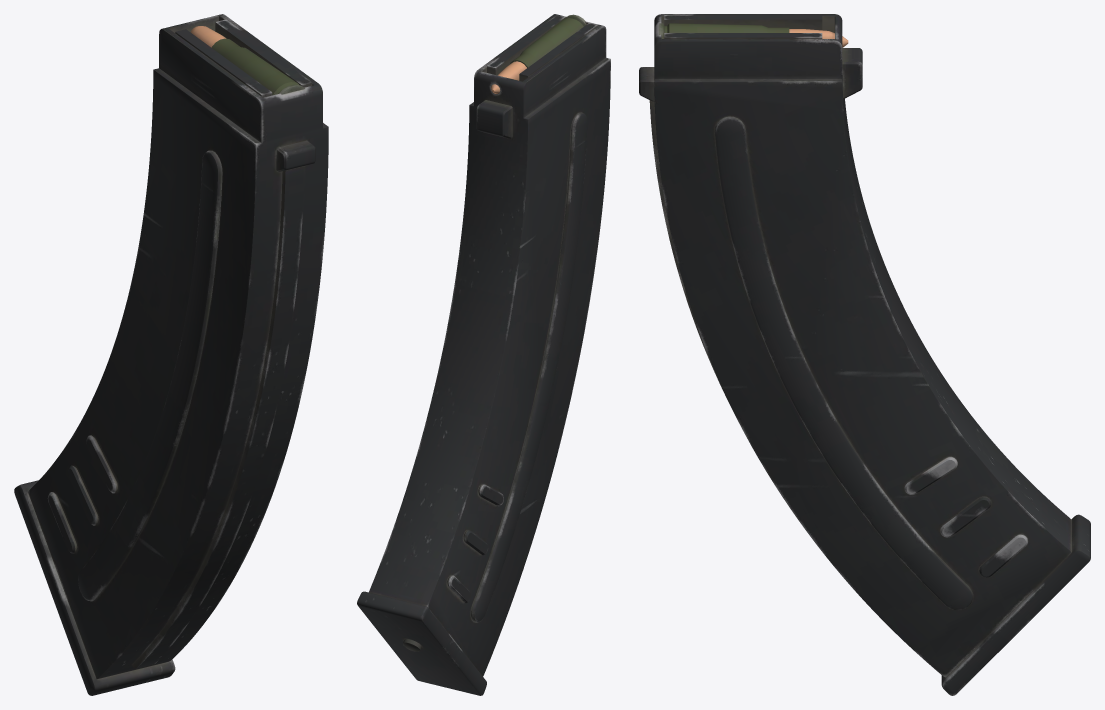
Rendered from carregador_762_30.glb.
3 views of the same model, side by side, from view 1: azimuth 30°, elevation 25°; view 2: azimuth 150°, elevation 25°; view 3: azimuth 270°, elevation 25° (orthographic). The views are drawn at different scales.
Parts seen in each view (by area): view 1: carregador_762_30_carregador; view 2: carregador_762_30_carregador; view 3: carregador_762_30_carregador.
Part boxes in pixels (left/top/right/bottom): carregador_762_30_carregador: left=14, top=14, right=328, bottom=695; carregador_762_30_carregador: left=357, top=14, right=610, bottom=695; carregador_762_30_carregador: left=639, top=14, right=1090, bottom=695.
Bounding box in the file's own units: 0.0262 × 0.2151 × 0.1344.
1 material, 1 textured.
